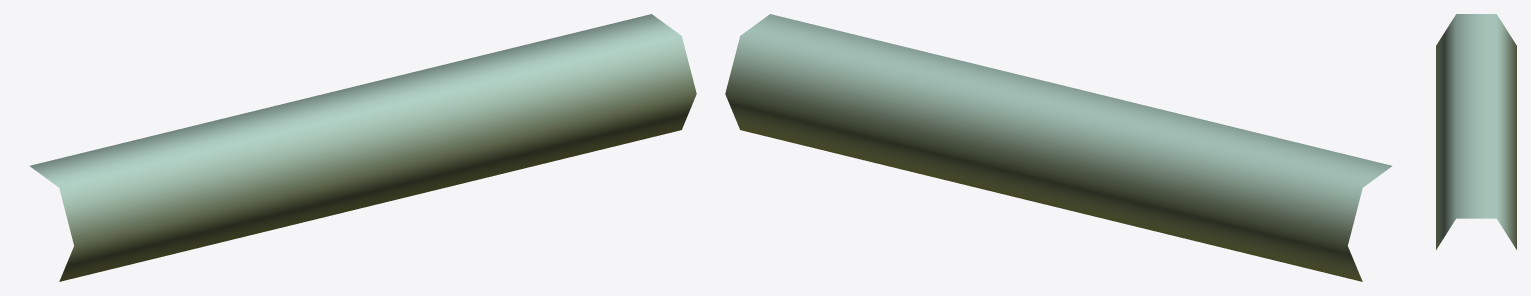
File: FootholdCenter.gltf
3 renders of one model, left to right at view 1: azimuth 30°, elevation 25°; view 2: azimuth 150°, elevation 25°; view 3: azimuth 270°, elevation 25°, orthographic. The views are drawn at different scales.
Parts seen in each view (by area): view 1: FootholdCenterMesh; view 2: FootholdCenterMesh; view 3: FootholdCenterMesh.
Part boxes in pixels (box(x1,y1,x2,y2)): FootholdCenterMesh: box(30, 14, 696, 281); FootholdCenterMesh: box(725, 14, 1391, 281); FootholdCenterMesh: box(1436, 14, 1516, 249).
Size of the model in its own units: 1 by 0.1445 by 0.1668.
